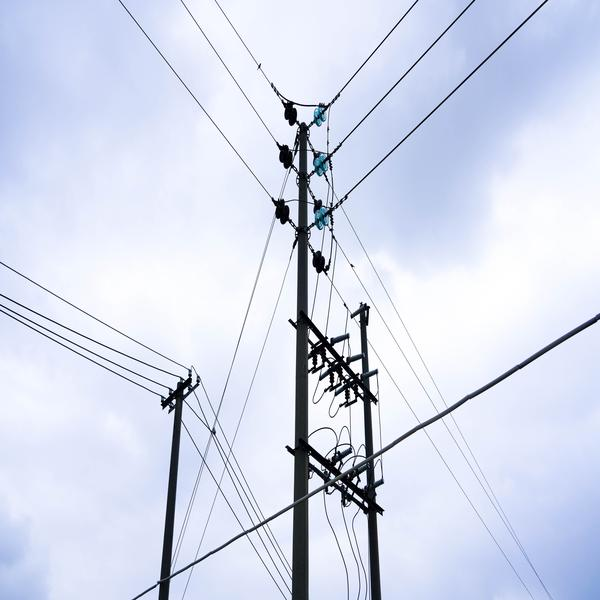utility_pole: (309, 301, 409, 531), (261, 82, 343, 285), (148, 356, 207, 448)
